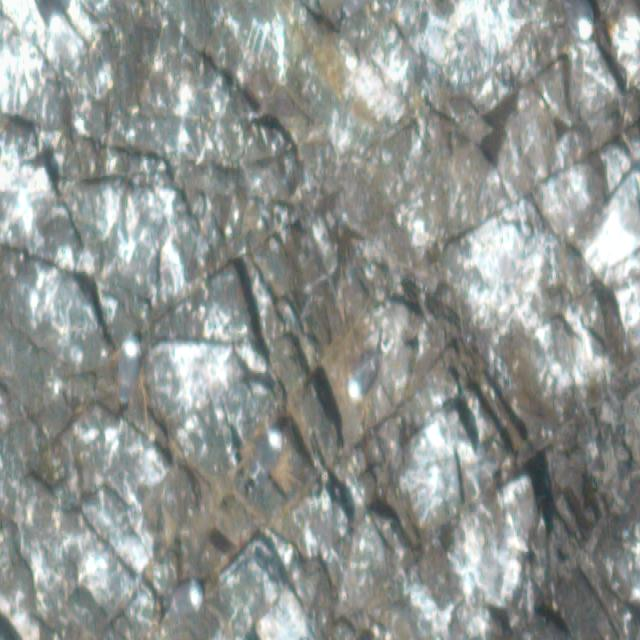umineko: (174, 576, 204, 620), (255, 432, 282, 475), (350, 358, 378, 398), (118, 343, 140, 391), (571, 0, 595, 42)
